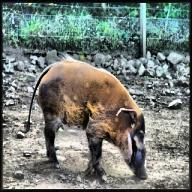boar: (20, 51, 150, 182)
